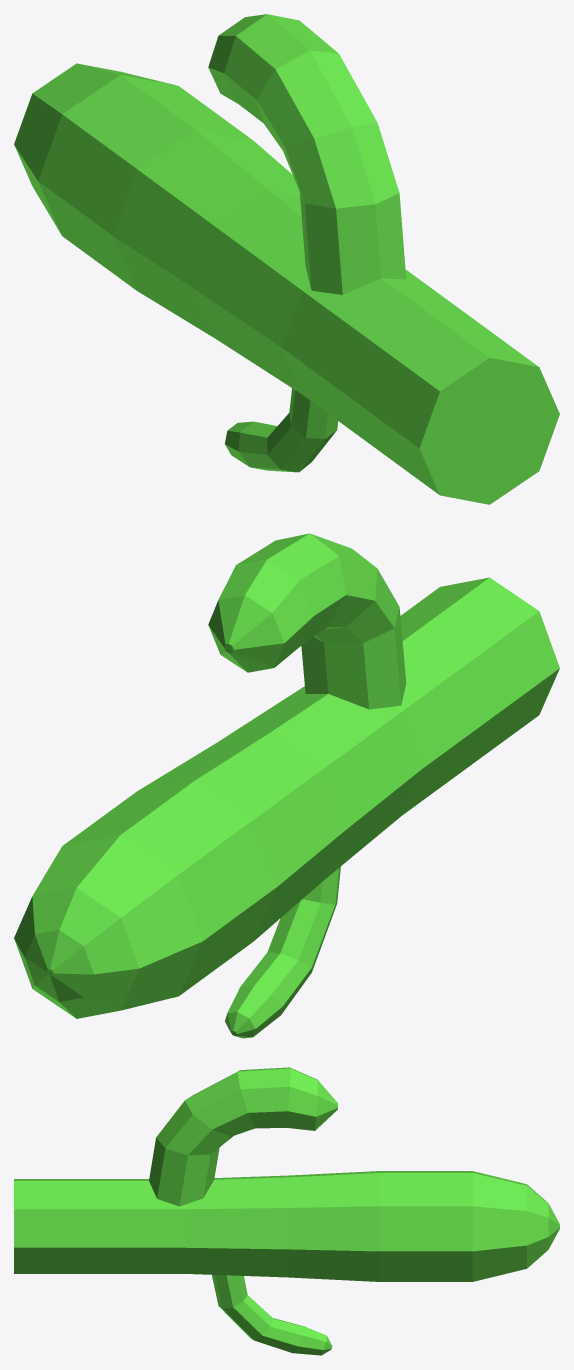
3 views of the same model, one above another, from view 1: azimuth 30°, elevation 25°; view 2: azimuth 150°, elevation 25°; view 3: azimuth 270°, elevation 25° (orthographic). The views are drawn at different scales.
Visible parts, largest first — view 1: Cylinder; view 2: Cylinder; view 3: Cylinder.
Part boxes in pixels (<box>): Cylinder: <box>14,14,559,504</box>; Cylinder: <box>14,533,559,1038</box>; Cylinder: <box>14,1067,559,1355</box>.
Size of the model in its own units: 135 by 361 by 623.
